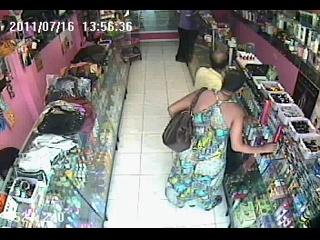Normal: (164, 70, 278, 220), (161, 87, 208, 153), (175, 10, 202, 66), (194, 50, 228, 91)
